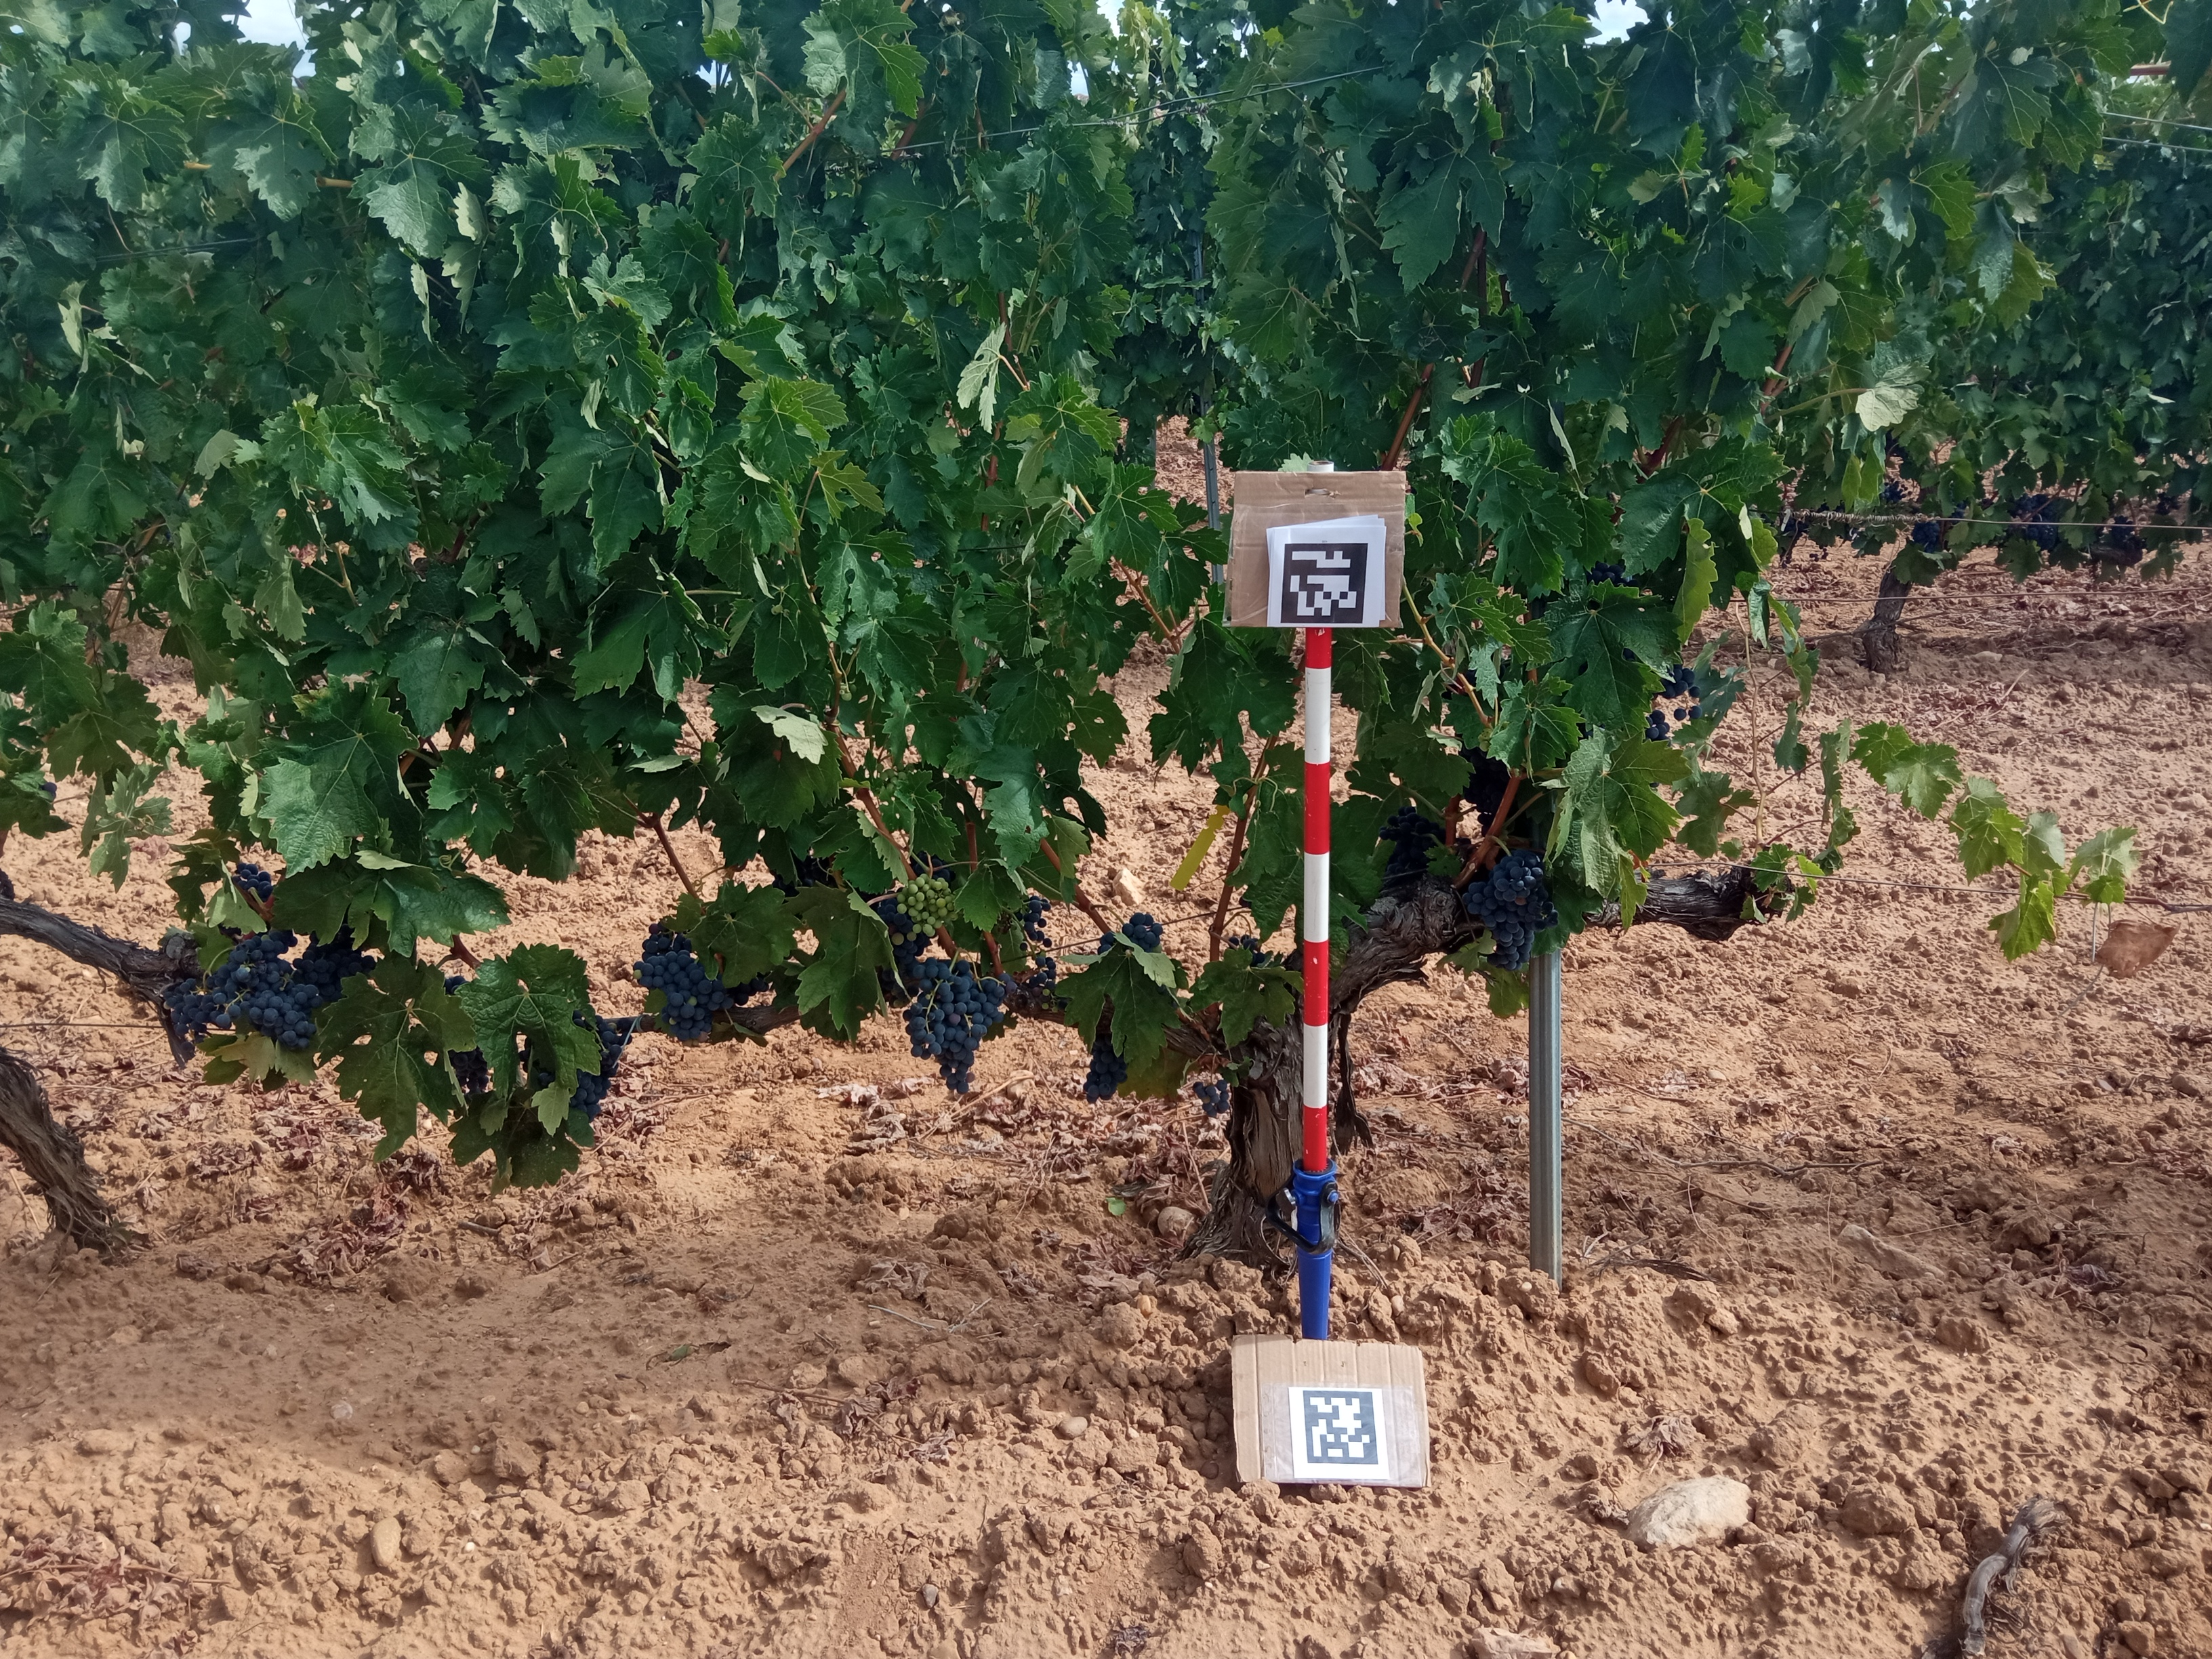grapes: (164, 929, 322, 1049), (904, 957, 1017, 1094), (1463, 849, 1557, 971), (632, 950, 733, 1046), (570, 1011, 632, 1121), (874, 887, 927, 1007), (293, 925, 374, 1000), (1460, 735, 1510, 836), (1379, 807, 1446, 877), (897, 875, 956, 938), (1083, 1035, 1129, 1103), (1097, 913, 1162, 957), (1658, 666, 1702, 720), (772, 857, 831, 896), (1015, 896, 1052, 951), (641, 920, 690, 960), (449, 1046, 488, 1091), (230, 863, 270, 901), (1028, 958, 1055, 1009), (1195, 1080, 1230, 1115), (1588, 563, 1641, 586), (1644, 709, 1672, 748), (909, 852, 949, 878), (1230, 936, 1264, 965), (728, 979, 768, 1004), (878, 763, 906, 791), (519, 1035, 533, 1072), (444, 976, 467, 993), (838, 683, 859, 701), (536, 1070, 552, 1086), (218, 927, 242, 936)
